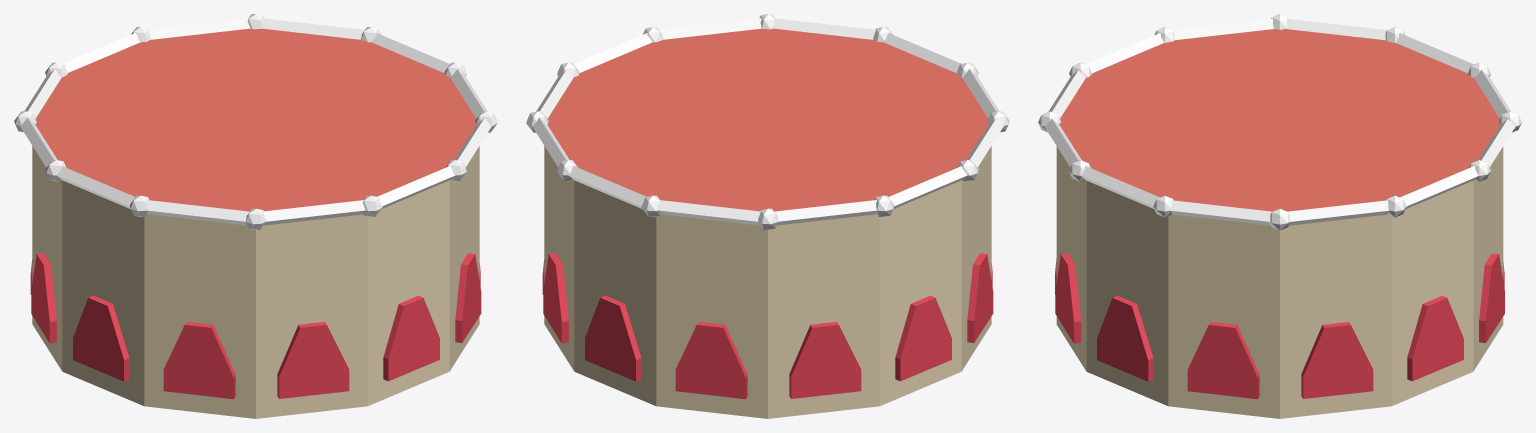
Rendered from cake.fbx.
3 views of the same model, side by side, from view 1: azimuth 30°, elevation 25°; view 2: azimuth 150°, elevation 25°; view 3: azimuth 270°, elevation 25° (orthographic).
Parts seen in each view (by area): view 1: cake; view 2: cake; view 3: cake.
Boxes of the visible parts, left/top/right/bottom form: cake: left=14, top=14, right=497, bottom=418; cake: left=526, top=14, right=1009, bottom=418; cake: left=1038, top=14, right=1521, bottom=418.
Bounding box in the file's own units: 260 × 126 × 260.
1 material, 1 textured.
